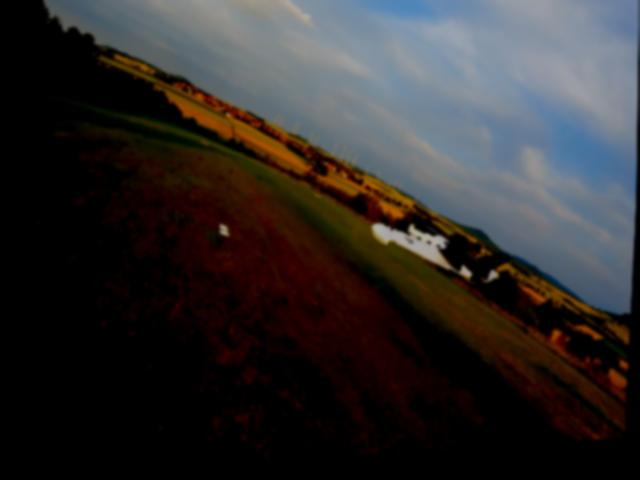plane: (370, 221, 517, 299)
